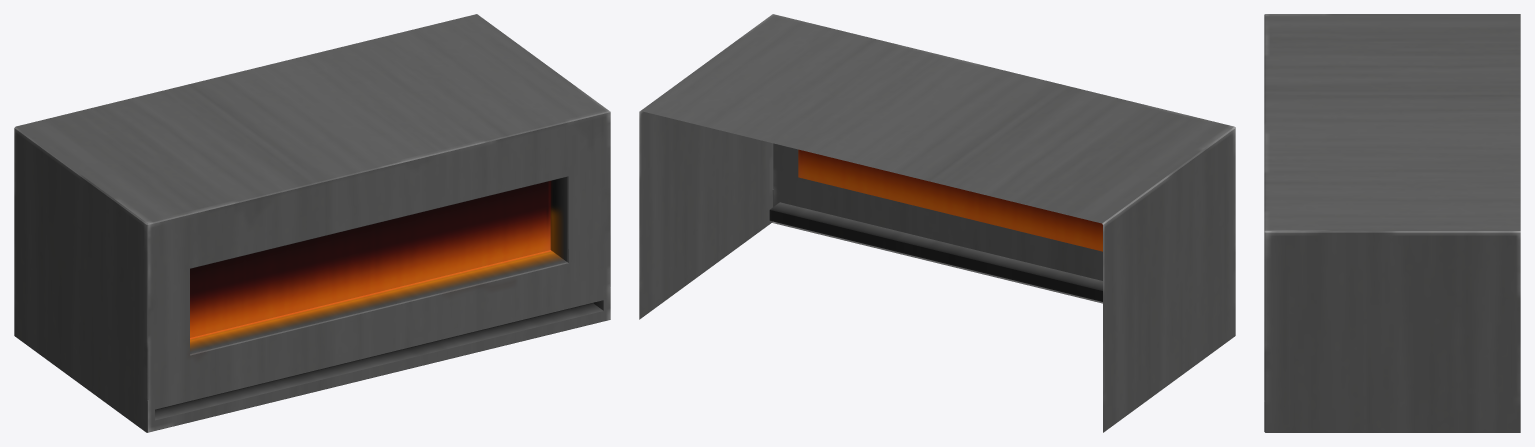
File: grill_box.FBX
3 views of the same model, side by side, from view 1: azimuth 30°, elevation 25°; view 2: azimuth 150°, elevation 25°; view 3: azimuth 270°, elevation 25° (orthographic). The views are drawn at different scales.
Visible parts, largest first — view 1: grill_box; view 2: grill_box; view 3: grill_box.
Boxes of the visible parts, <box> form: grill_box: <box>14,14,610,432</box>; grill_box: <box>639,14,1235,432</box>; grill_box: <box>1264,14,1520,432</box>.
Bounding box in the file's own units: 83.05 × 35.79 × 41.29.
